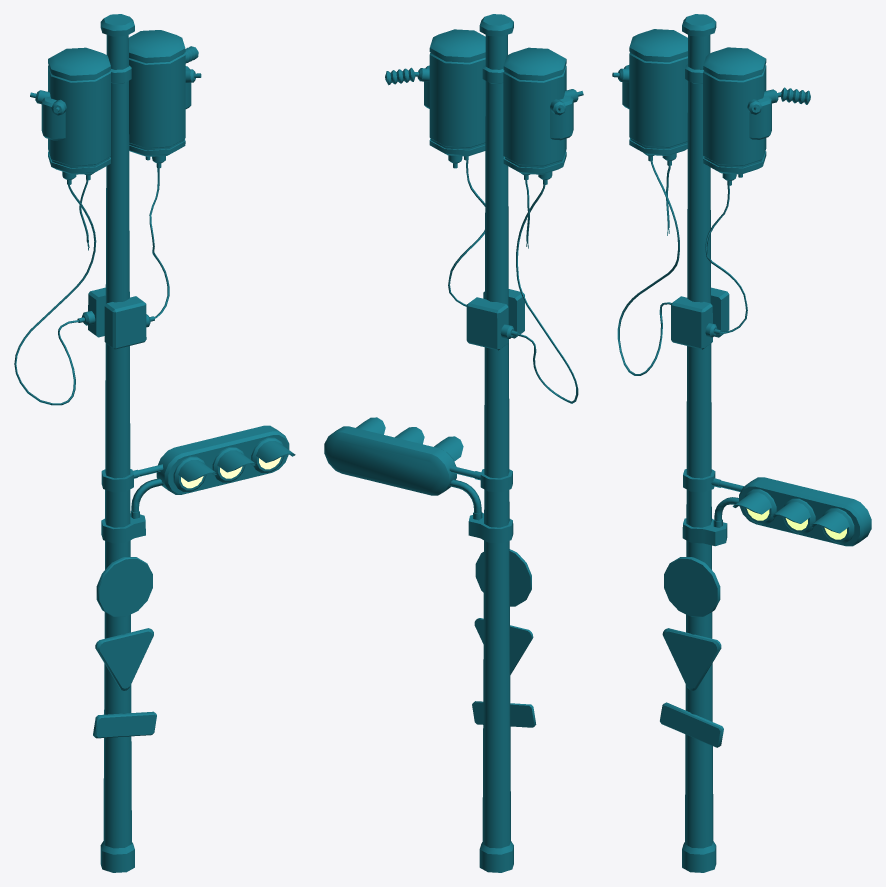
The model's file is Mesh_BackbroundProp_TrafficLight.FBX.
3 renders of one model, left to right at view 1: azimuth 30°, elevation 25°; view 2: azimuth 150°, elevation 25°; view 3: azimuth 330°, elevation 25°, orthographic.
Visible parts, largest first — view 1: Mesh_BackbroundProp_TrafficLight; view 2: Mesh_BackbroundProp_TrafficLight; view 3: Mesh_BackbroundProp_TrafficLight.
Part boxes in pixels (x1=…): Mesh_BackbroundProp_TrafficLight: x1=14, y1=14, x2=295, y2=872; Mesh_BackbroundProp_TrafficLight: x1=324, y1=14, x2=583, y2=872; Mesh_BackbroundProp_TrafficLight: x1=612, y1=14, x2=871, y2=872.
Size of the model in its own units: 321 by 999 by 96.22.
